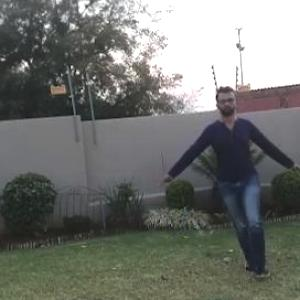land: (174, 94, 298, 264)
